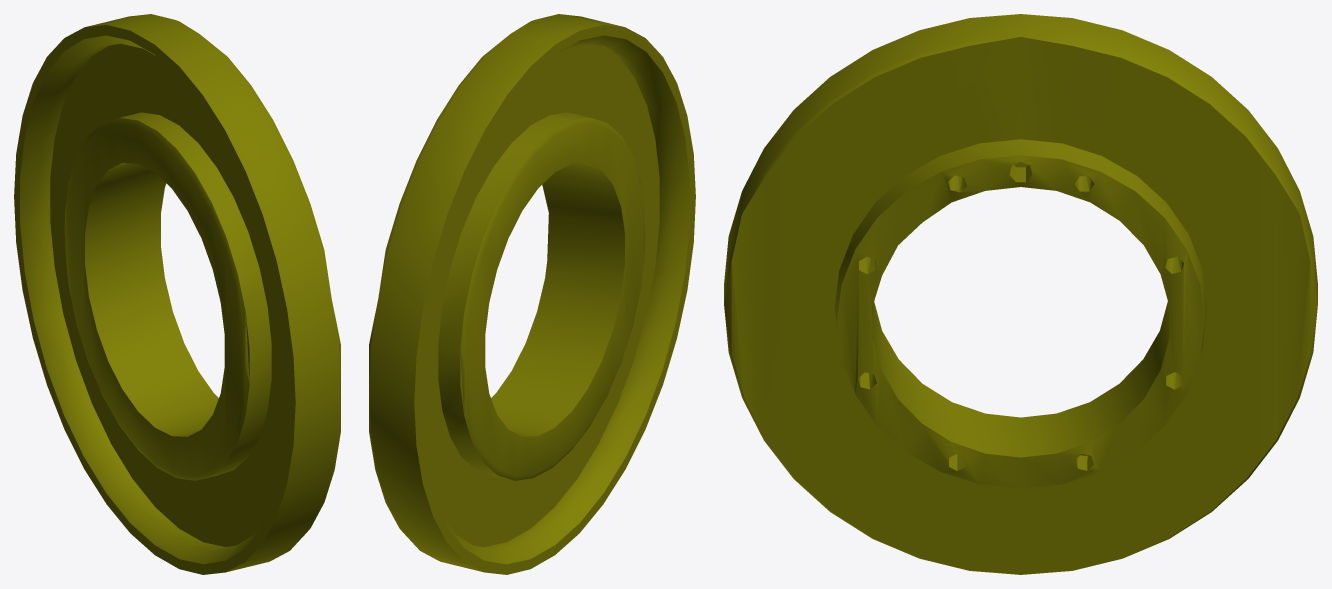
The picture shows the model from 3 angles, left to right: view 1: azimuth 30°, elevation 25°; view 2: azimuth 150°, elevation 25°; view 3: azimuth 270°, elevation 25°; orthographic projection. The views are drawn at different scales.
Visible parts, largest first — view 1: mesh_shell_11__LOD_0_; view 2: mesh_shell_11__LOD_0_; view 3: mesh_shell_11__LOD_0_.
Part boxes in pixels (bbox=[...]): mesh_shell_11__LOD_0_: bbox=[14, 14, 340, 574]; mesh_shell_11__LOD_0_: bbox=[369, 14, 695, 574]; mesh_shell_11__LOD_0_: bbox=[724, 14, 1317, 574].
Size of the model in its own units: 0.016 by 0.1 by 0.1.
